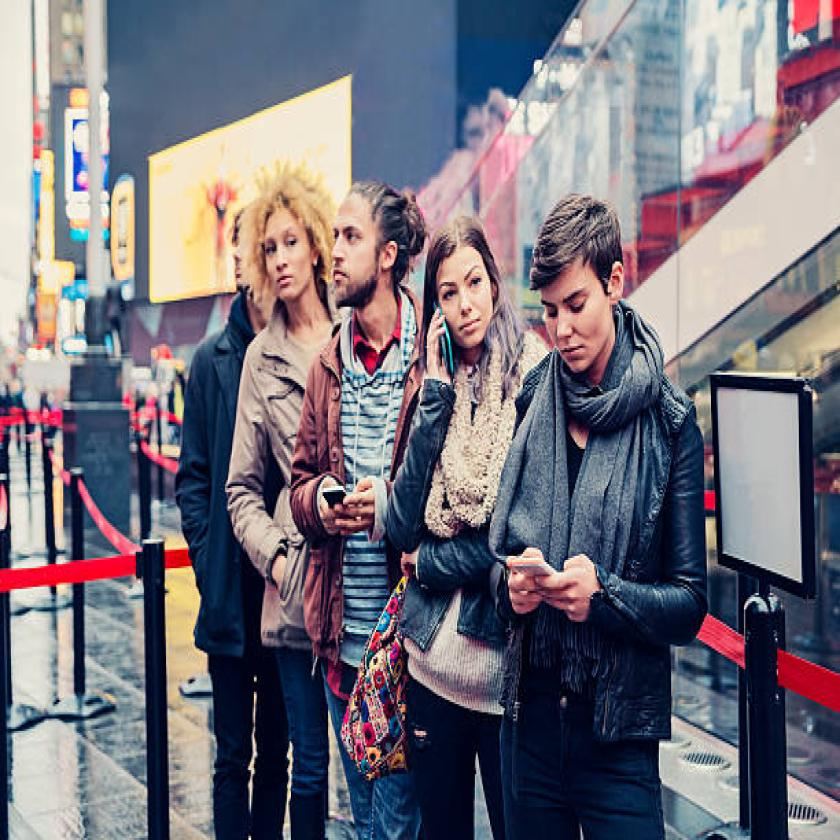Sin_casco: (525, 185, 641, 384), (332, 174, 414, 340), (255, 167, 332, 331), (430, 204, 502, 376)
